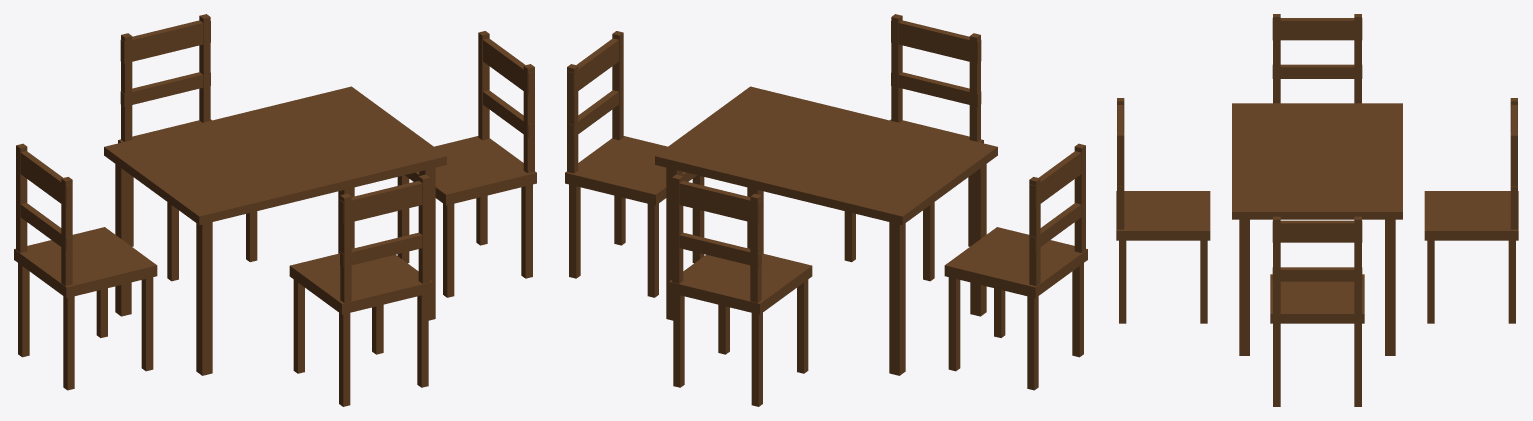
The model's file is table-set.obj.
3 renders of one model, left to right at view 1: azimuth 30°, elevation 25°; view 2: azimuth 150°, elevation 25°; view 3: azimuth 270°, elevation 25°, orthographic. The views are drawn at different scales.
Parts seen in each view (by area): view 1: table-set_0, table-set_32, table-set_5, table-set_23, table-set_3, table-set_21, table-set_12, table-set_1, table-set_39, table-set_30, table-set_22, table-set_13 (+25 smaller); view 2: table-set_0, table-set_32, table-set_14, table-set_23, table-set_1, table-set_12, table-set_21, table-set_3, table-set_39, table-set_30, table-set_13, table-set_22 (+25 smaller); view 3: table-set_0, table-set_5, table-set_14, table-set_23, table-set_30, table-set_39, table-set_2, table-set_4, table-set_31, table-set_40, table-set_28, table-set_29 (+10 smaller).
Part boxes in pixels (left/top/right/bottom): table-set_0: left=104, top=86, right=446, bottom=224; table-set_32: left=14, top=227, right=157, bottom=298; table-set_5: left=289, top=253, right=432, bottom=314; table-set_23: left=405, top=136, right=536, bottom=205; table-set_3: left=196, top=222, right=212, bottom=375; table-set_21: left=120, top=20, right=210, bottom=63; table-set_12: left=340, top=181, right=430, bottom=223; table-set_1: left=115, top=164, right=131, bottom=316; table-set_39: left=20, top=151, right=72, bottom=207; table-set_30: left=483, top=38, right=534, bottom=94; table-set_22: left=120, top=72, right=210, bottom=106; table-set_13: left=340, top=232, right=430, bottom=267; table-set_0: left=655, top=86, right=997, bottom=224; table-set_32: left=944, top=227, right=1087, bottom=298; table-set_14: left=669, top=253, right=812, bottom=314; table-set_23: left=565, top=136, right=696, bottom=205; table-set_1: left=889, top=222, right=905, bottom=375; table-set_12: left=891, top=20, right=981, bottom=63; table-set_21: left=671, top=181, right=761, bottom=223; table-set_3: left=970, top=164, right=986, bottom=316; table-set_39: left=1029, top=151, right=1081, bottom=207; table-set_30: left=567, top=38, right=618, bottom=94; table-set_13: left=891, top=72, right=981, bottom=106; table-set_22: left=671, top=232, right=761, bottom=267; table-set_0: left=1232, top=103, right=1402, bottom=219; table-set_5: left=1116, top=191, right=1210, bottom=240; table-set_14: left=1424, top=191, right=1518, bottom=240; table-set_23: left=1270, top=274, right=1364, bottom=323; table-set_30: left=1272, top=220, right=1362, bottom=242; table-set_39: left=1272, top=18, right=1362, bottom=40; table-set_2: left=1385, top=219, right=1395, bottom=355; table-set_4: left=1239, top=219, right=1249, bottom=355; table-set_31: left=1272, top=267, right=1362, bottom=281; table-set_40: left=1272, top=64, right=1362, bottom=78; table-set_28: left=1273, top=216, right=1280, bottom=313; table-set_29: left=1354, top=216, right=1361, bottom=313.
Bounding box in the file's own units: 2.28 × 0.97 × 1.88.
